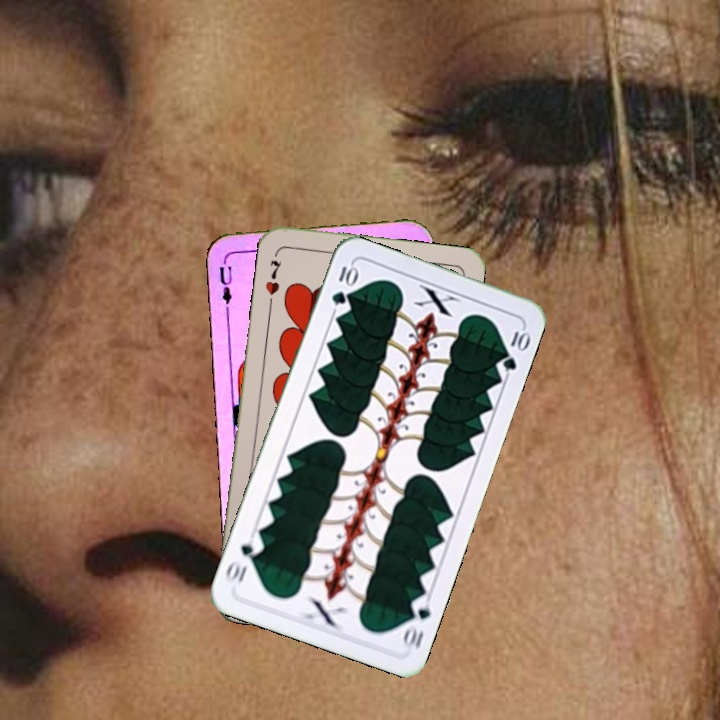EU: (215, 254, 241, 313)
G10: (399, 592, 433, 652), (327, 260, 359, 308)
H7: (261, 256, 284, 297)
